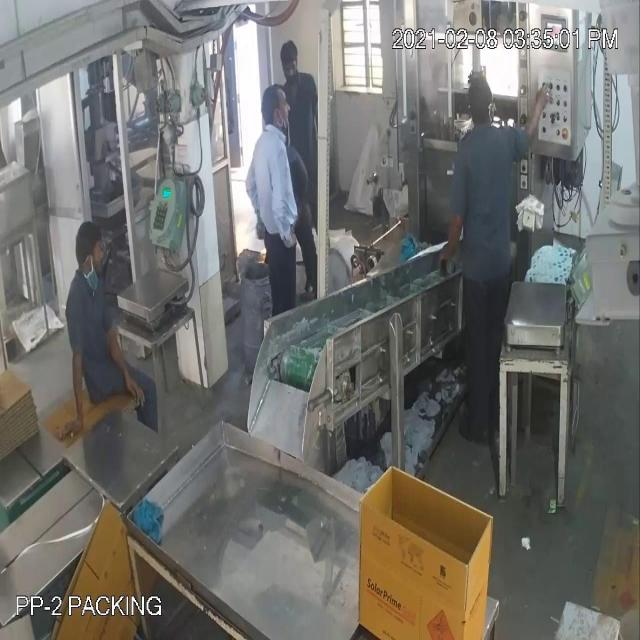No_Gloves: (27, 80, 530, 390)
